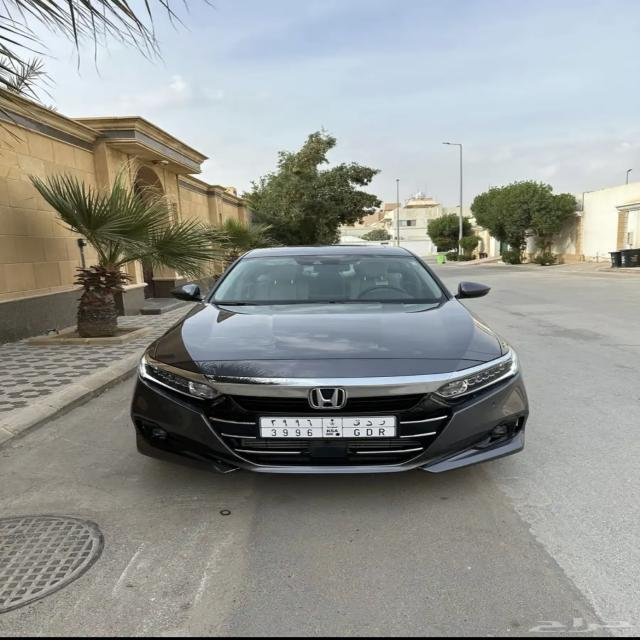license_plate: (259, 414, 398, 441)
